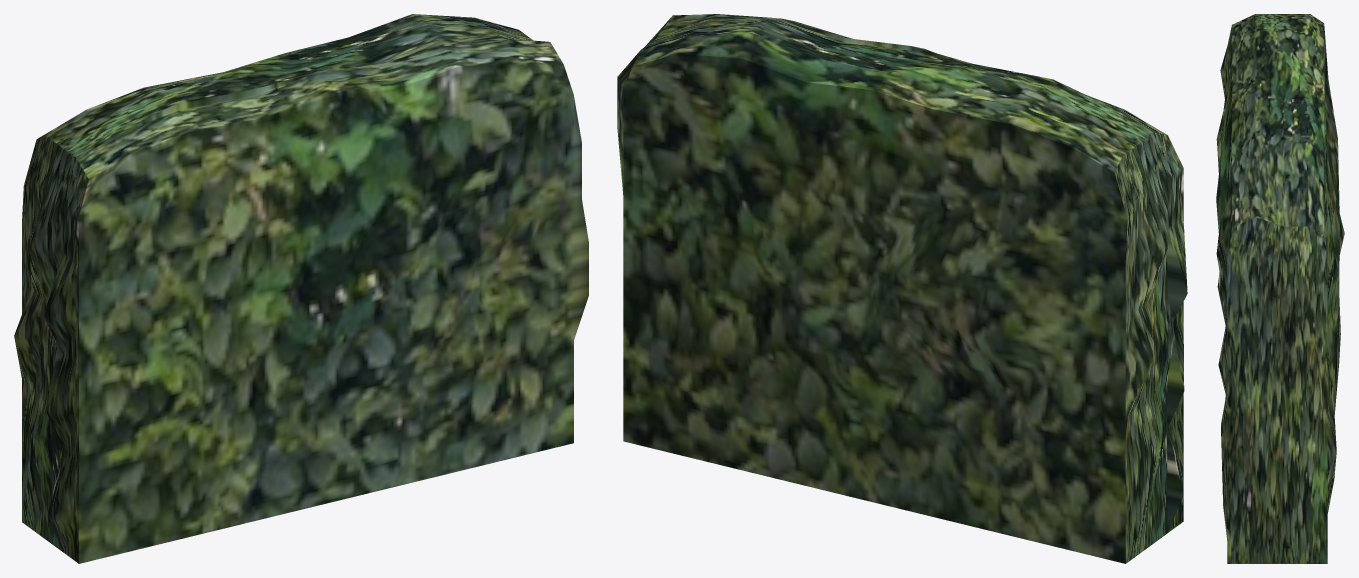
File: HorizHedge.fbx
3 renders of one model, left to right at view 1: azimuth 30°, elevation 25°; view 2: azimuth 150°, elevation 25°; view 3: azimuth 270°, elevation 25°, orthographic. The views are drawn at different scales.
Visible parts, largest first — view 1: pCube1; view 2: pCube1; view 3: pCube1.
Boxes of the visible parts, <box> form: pCube1: <box>14,14,588,563</box>; pCube1: <box>617,14,1187,563</box>; pCube1: <box>1216,14,1344,563</box>.
Size of the model in its own units: 5.4 by 4.1 by 1.28.
Materials: 1 (1 with a texture image).
